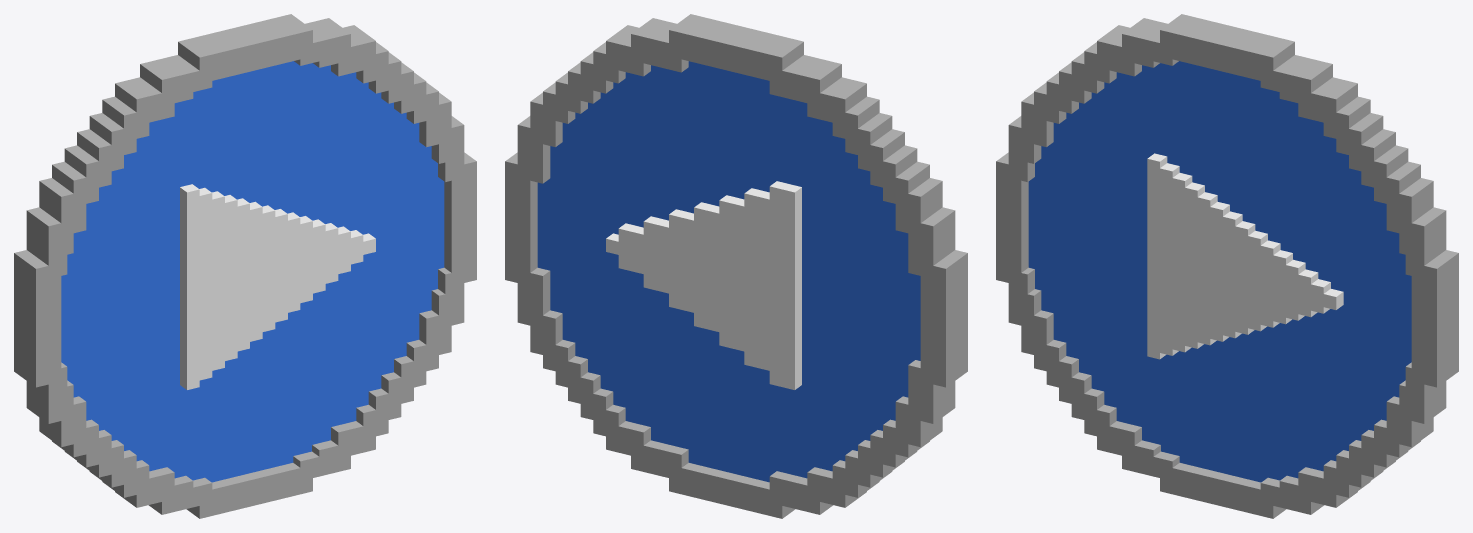
The model's file is Play.obj.
3 renders of one model, left to right at view 1: azimuth 30°, elevation 25°; view 2: azimuth 150°, elevation 25°; view 3: azimuth 330°, elevation 25°, orthographic.
Size of the model in its own units: 7 by 7 by 0.6.
1 material, 1 textured.
